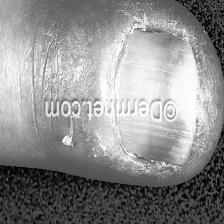Toxin: (88, 10, 200, 158)
